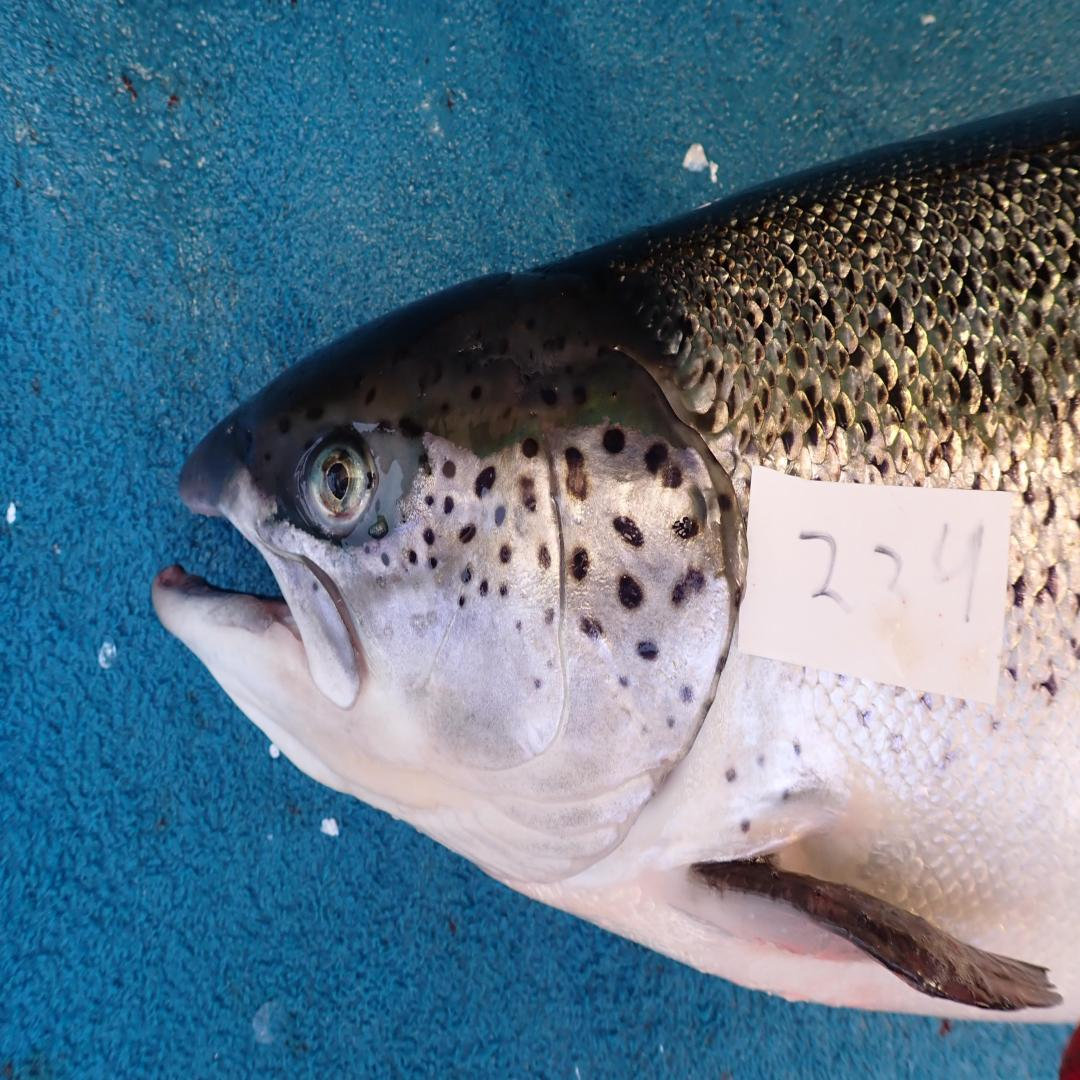spot: (671, 565, 705, 605), (565, 447, 589, 501), (618, 574, 643, 610), (614, 518, 643, 548), (645, 442, 669, 472), (475, 467, 496, 498), (519, 475, 536, 512), (603, 428, 624, 456), (673, 518, 698, 540), (572, 548, 589, 579), (662, 464, 683, 489), (580, 616, 603, 638), (637, 641, 658, 661), (521, 436, 538, 458), (418, 450, 432, 475), (460, 523, 477, 543), (717, 492, 734, 512), (538, 546, 551, 568), (422, 526, 435, 546), (679, 686, 694, 703), (494, 506, 506, 526), (443, 461, 456, 478), (618, 675, 633, 689), (407, 548, 418, 565), (445, 495, 454, 515), (544, 608, 555, 624), (462, 568, 472, 585), (479, 579, 489, 596), (500, 546, 510, 562), (424, 492, 435, 506), (380, 551, 390, 565), (667, 714, 677, 728), (500, 582, 510, 596), (458, 593, 466, 608), (428, 557, 437, 568), (515, 620, 522, 632), (534, 678, 541, 689), (364, 545, 369, 555)
